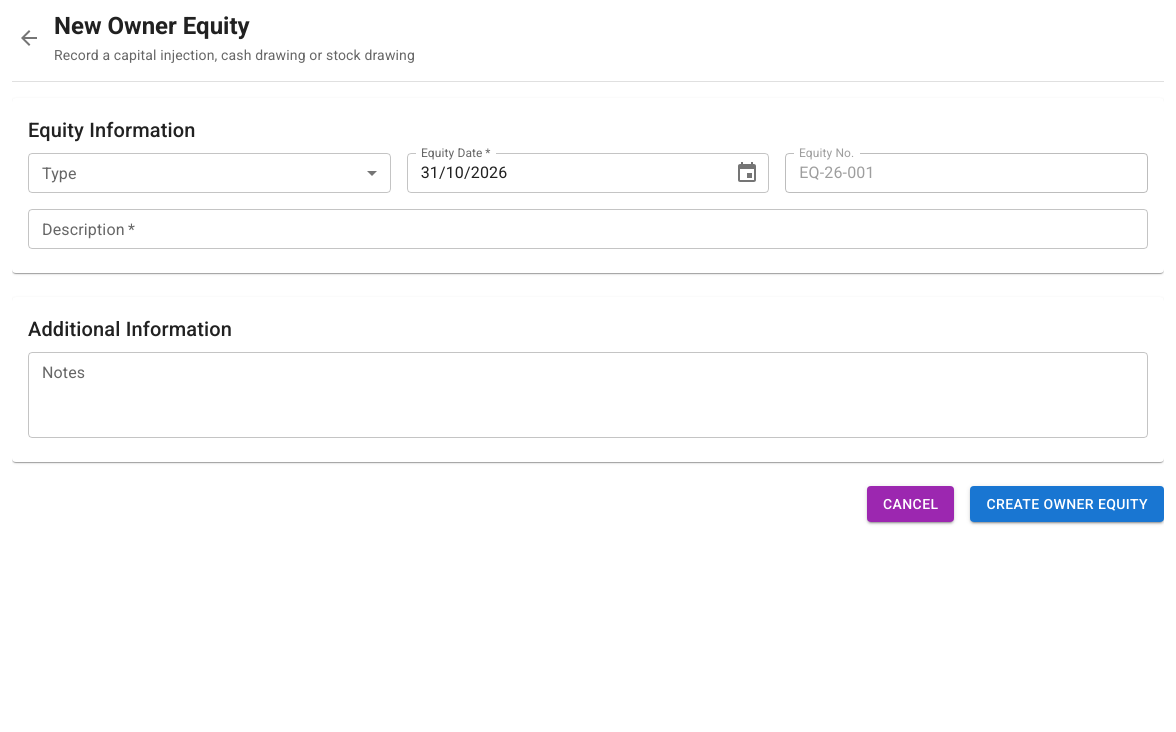
OwnerEquityFormPage › shows Amount for a capital injection
Press the mouse on the dropdown named "Type" at (209, 173), box [28,153,391,193]
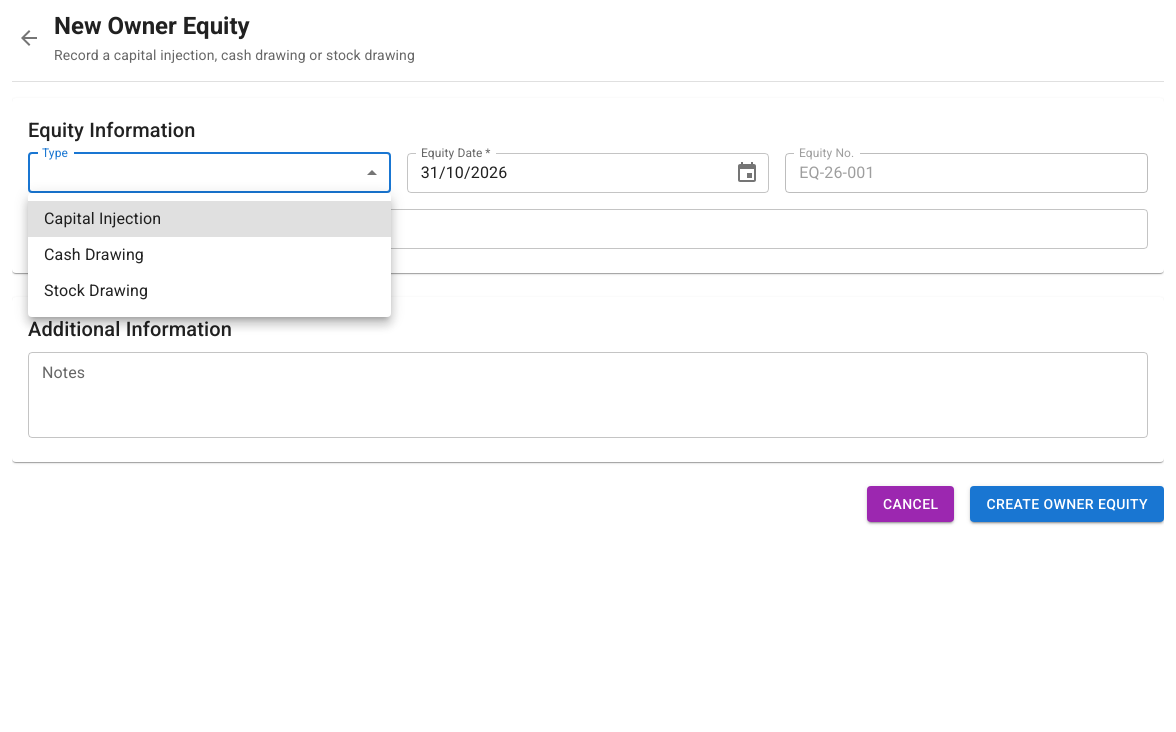
Click the option "Capital Injection" at (103, 218), box [28,201,391,237]
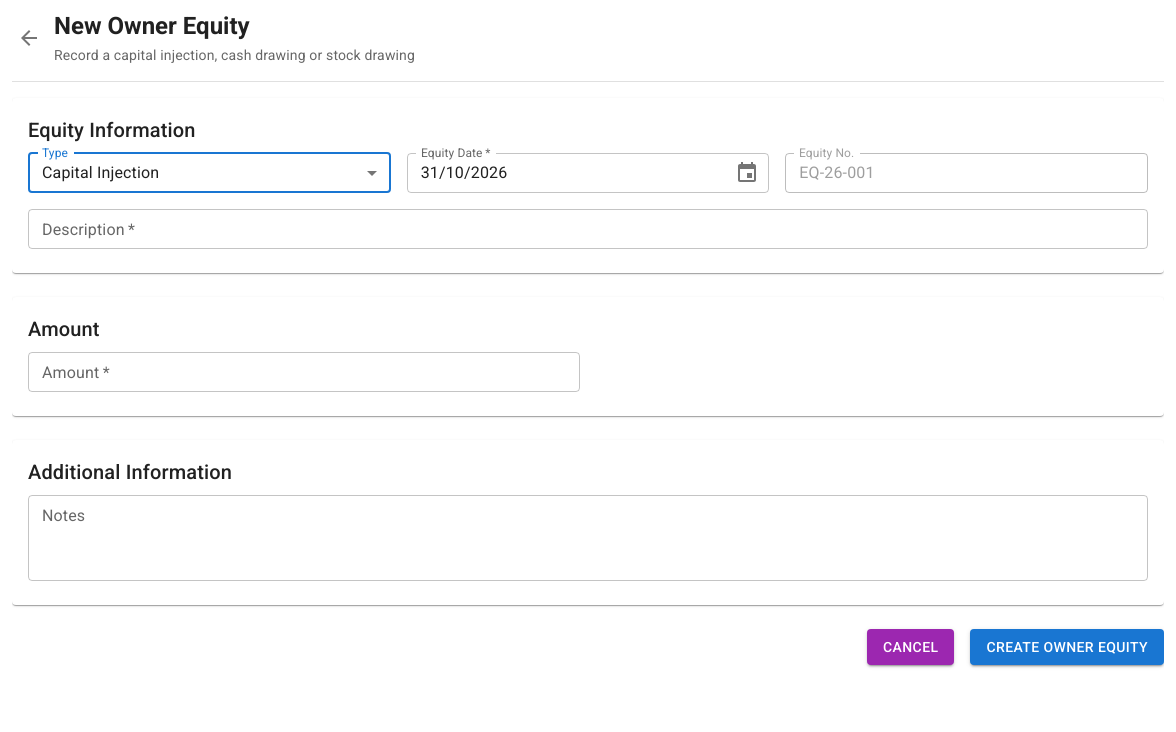
Check: the field labelled "Amount *" is shown, box [28,352,580,392]
